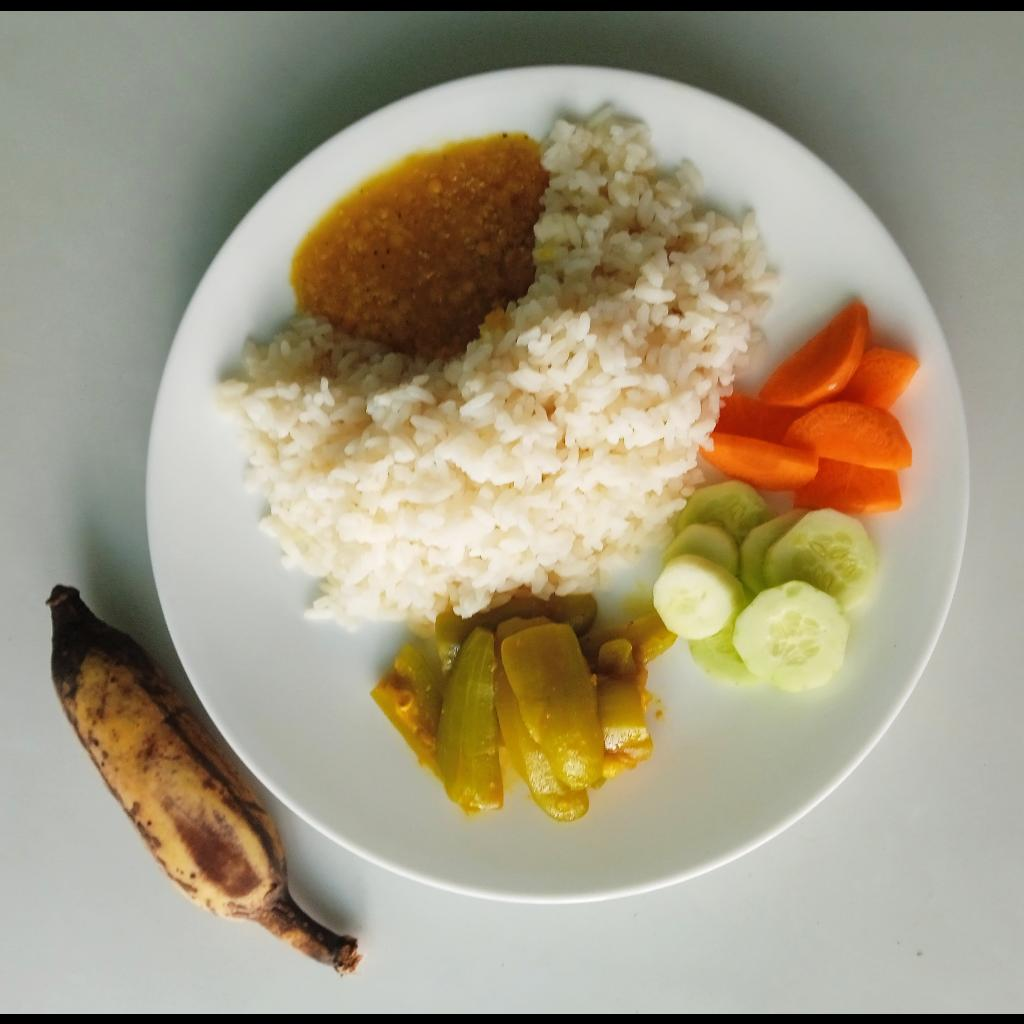banana: (44, 584, 366, 975)
carrot: (698, 294, 920, 512)
cucumber: (647, 474, 882, 693)
daal: (291, 133, 546, 352)
potol: (377, 593, 671, 822)
rice: (207, 103, 785, 629)
